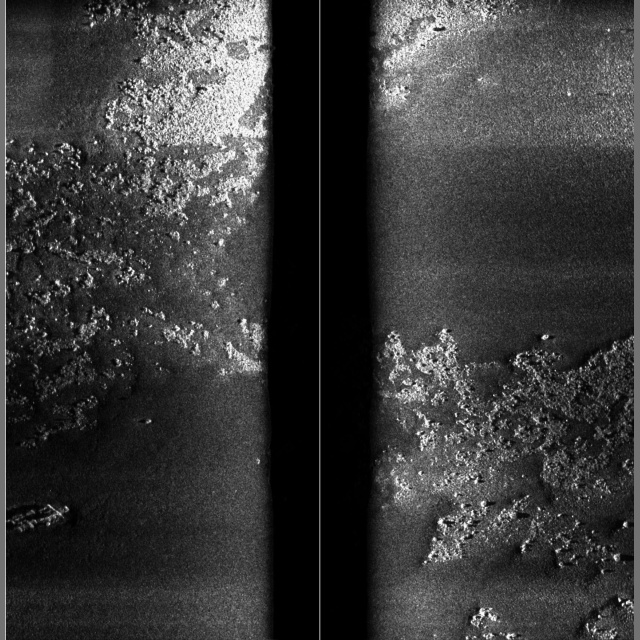Shipwreck: (6, 504, 70, 534)
